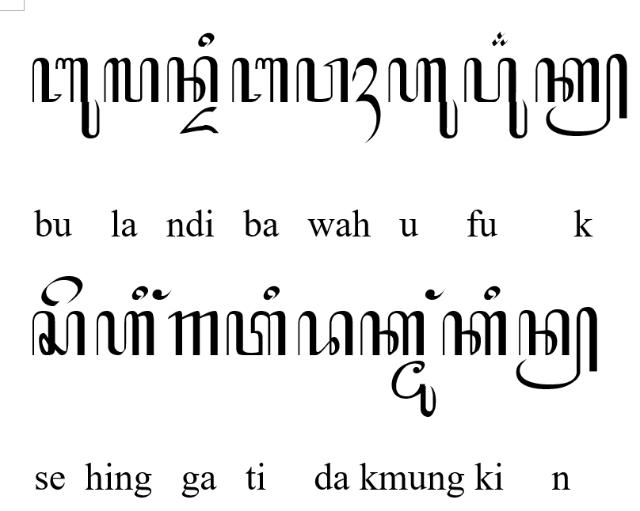-k: (534, 54, 628, 136)
-n: (514, 306, 598, 390)
_d: (180, 107, 220, 135)
_h1: (352, 56, 382, 144)
_mu: (389, 360, 436, 418)
alt: (492, 31, 508, 47)
b: (231, 57, 289, 103)
bu: (31, 56, 100, 138)
d: (296, 310, 354, 358)
e: (41, 274, 84, 308)
g: (168, 311, 220, 357)
h: (95, 311, 155, 357)
hu: (388, 55, 459, 139)
i: (198, 30, 215, 48), (263, 286, 281, 300), (484, 286, 501, 300), (132, 286, 148, 300)
k: (442, 310, 508, 356), (360, 311, 424, 357)
l: (102, 56, 160, 106)
n: (166, 56, 220, 104)
ng: (152, 288, 172, 300), (425, 290, 445, 300)
pu: (462, 56, 528, 140)
s: (30, 310, 86, 356)
t: (226, 311, 288, 357)
w: (296, 56, 348, 104)
